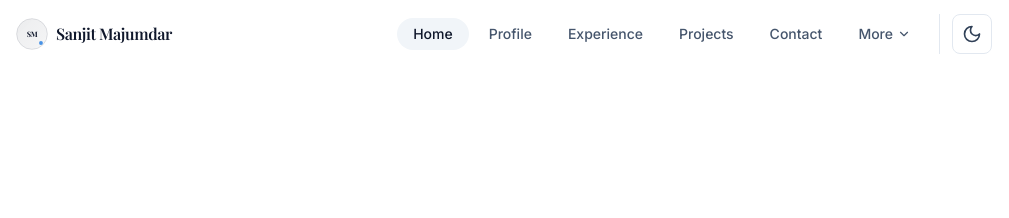
Scenario: TopNav (editorial + More dropdown) › "More" dropdown › clicking "More" opens the menu and toggles aria-expanded
Click the button "More". click: coordinates (885, 34)
box: [842,18,927,50]
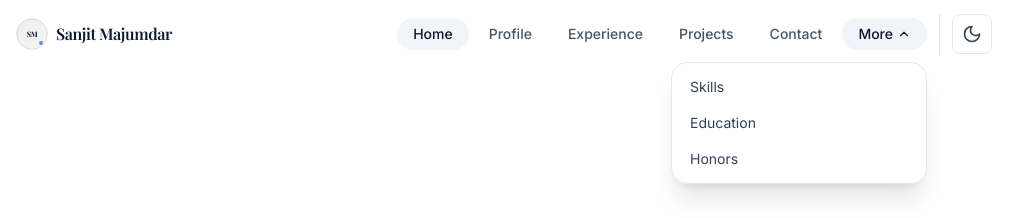
Now the button "More" is expanded, box [842,18,927,50]
Now the menu item "Skills" is shown, box [690,78,724,95]
Now the menu item "Education" is shown, box [690,114,756,131]
